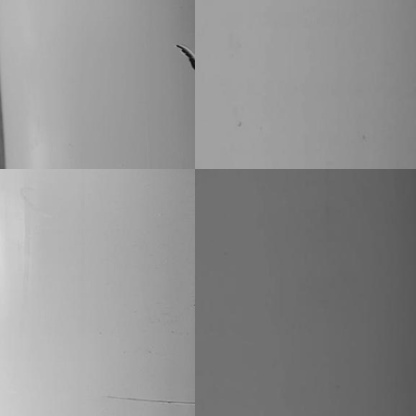kongdong: (174, 42, 199, 69)
